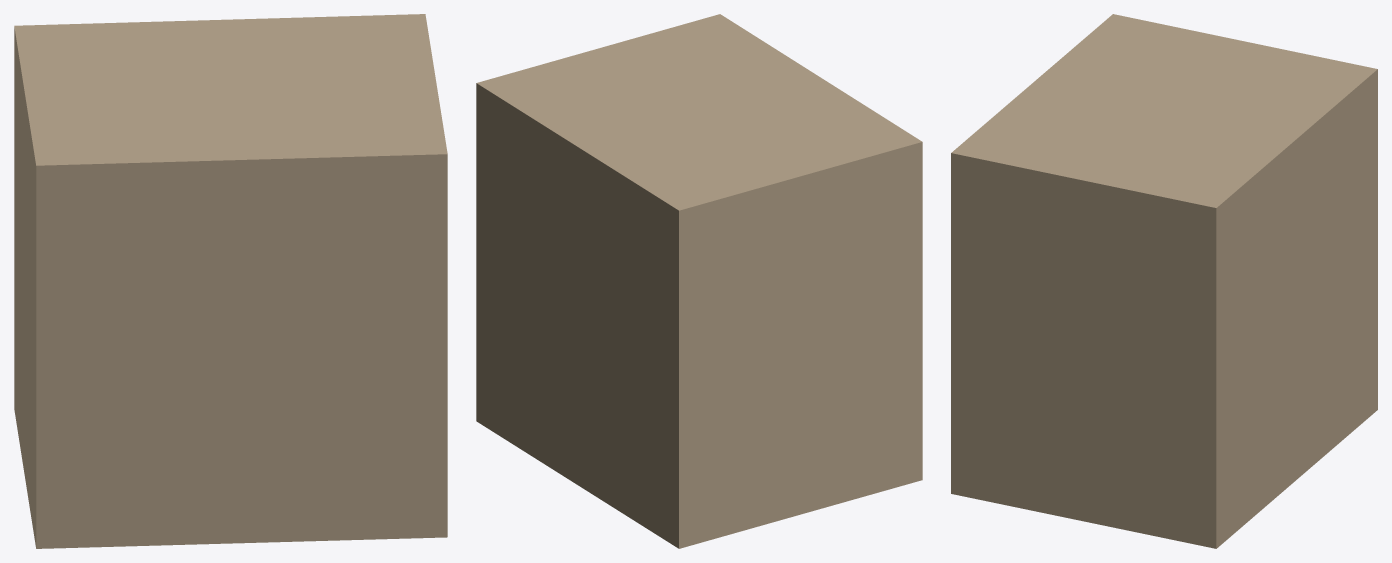
File: bld_99616043.dae
The picture shows the model from 3 angles, left to right: view 1: azimuth 30°, elevation 25°; view 2: azimuth 150°, elevation 25°; view 3: azimuth 270°, elevation 25°; orthographic projection. The views are drawn at different scales.
Visible parts, largest first — view 1: bld_99616043; view 2: bld_99616043; view 3: bld_99616043.
Boxes of the visible parts, x1,y1,x2,y2 form: bld_99616043: (14,14,447,548); bld_99616043: (476,14,922,548); bld_99616043: (951,14,1377,548).
Bounding box in the file's own units: 9.77 × 9.08 × 8.
